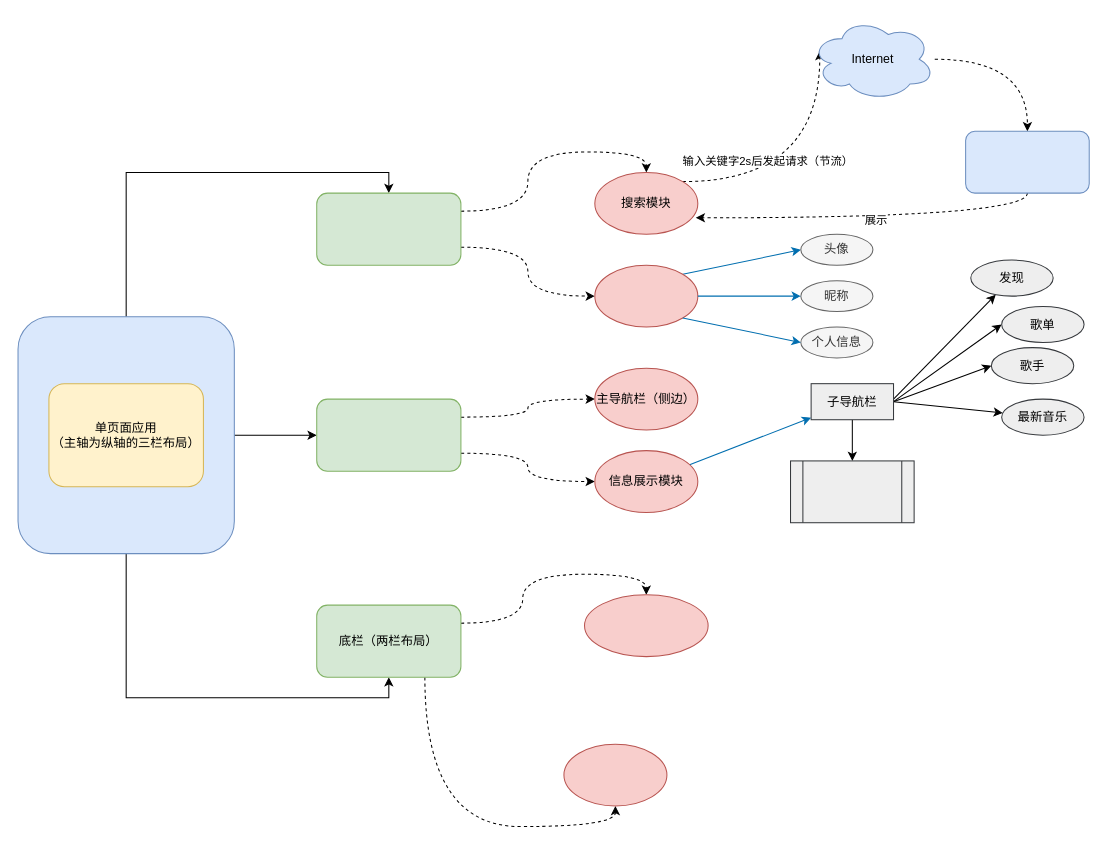
The diagram is 1107 pixels wide and 845 high, and some of its shapes have lost their labels. Here are the shapes that lost their labels. From the top down, the centre of each, then its label:
At pixel 1027 161: "数据过滤".
At pixel 388 228: "顶栏（三栏布局）".
At pixel 646 295: "用户信息管理模块".
At pixel 388 434: "微主页（两栏布局）".
At pixel 851 491: "挂载对应页面".
At pixel 645 625: "歌曲信息、歌手、歌单封面展示模块".
At pixel 615 774: "播放操作模块".
